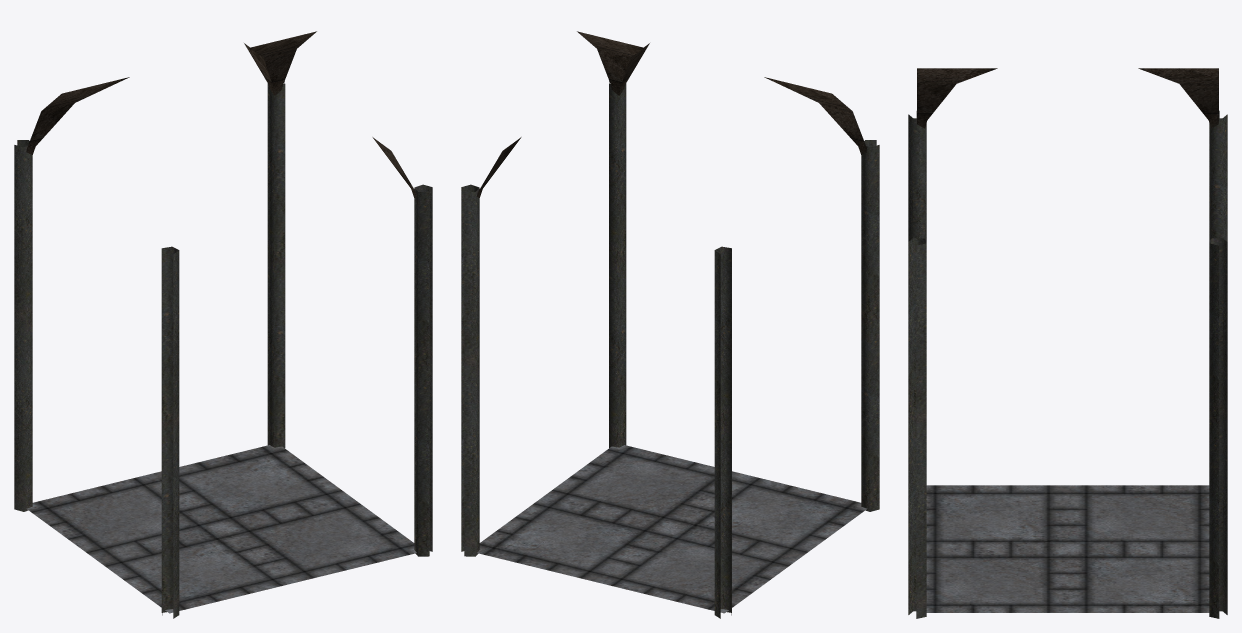
The model's file is CrossRoads.fbx.
3 renders of one model, left to right at view 1: azimuth 30°, elevation 25°; view 2: azimuth 150°, elevation 25°; view 3: azimuth 270°, elevation 25°, orthographic. The views are drawn at different scales.
Visible parts, largest first — view 1: Plane_009, Cylinder, Cylinder_003, Cylinder_001, Cylinder_002, Plane_001; view 2: Plane_009, Cylinder_002, Cylinder_001, Cylinder_003, Cylinder, Plane_001; view 3: Plane_009, Cylinder_002, Cylinder, Plane_001, Cylinder_003, Cylinder_001.
Boxes of the visible parts, x1,y1,x2,y2 form: Plane_009: (26, 445, 416, 613); Cylinder: (414, 184, 432, 556); Cylinder_003: (14, 140, 32, 511); Cylinder_001: (161, 246, 179, 618); Cylinder_002: (267, 81, 285, 447); Plane_001: (26, 31, 416, 197); Plane_009: (477, 445, 867, 613); Cylinder_002: (461, 184, 479, 556); Cylinder_001: (861, 140, 879, 511); Cylinder_003: (714, 246, 731, 618); Cylinder: (609, 81, 626, 447); Plane_001: (477, 31, 867, 197); Plane_009: (926, 485, 1209, 612); Cylinder_002: (1209, 238, 1227, 618); Cylinder: (908, 238, 926, 618); Plane_001: (917, 68, 1218, 128); Cylinder_003: (1209, 110, 1227, 242); Cylinder_001: (908, 111, 926, 242).
Bounding box in the file's own units: 2.11 × 3.46 × 2.11.
